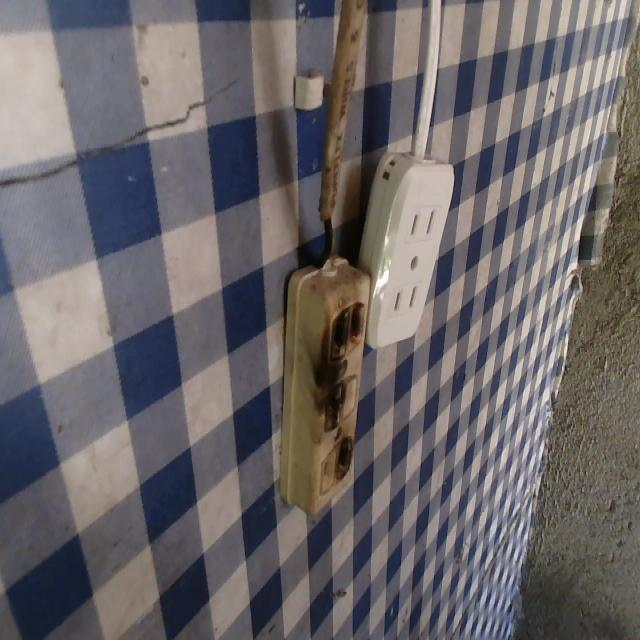-: (316, 299, 369, 357), (318, 380, 349, 429), (333, 432, 355, 488)
